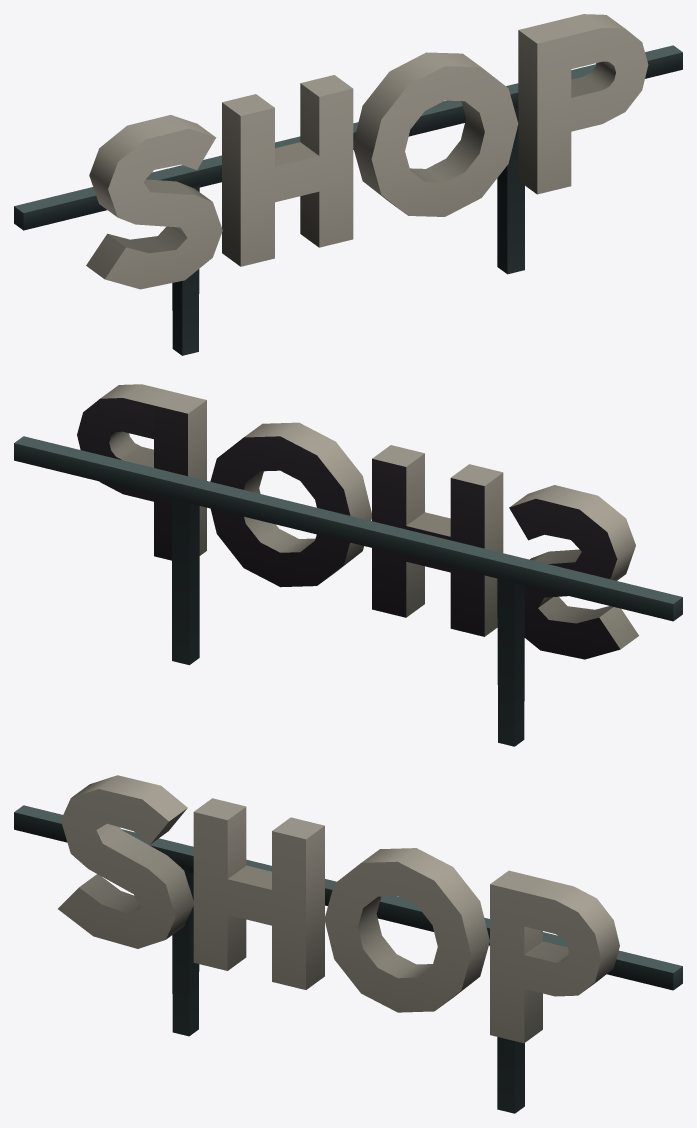
The model's file is Title_3A.fbx.
3 renders of one model, top to bottom at view 1: azimuth 30°, elevation 25°; view 2: azimuth 150°, elevation 25°; view 3: azimuth 330°, elevation 25°, orthographic.
Parts seen in each view (by area): view 1: Title_3A, Title_Addon_3A; view 2: Title_3A, Title_Addon_3A; view 3: Title_3A, Title_Addon_3A.
Part boxes in pixels (x1,y1,x2,y2): Title_3A: (86,14,648,289); Title_Addon_3A: (14,45,682,355); Title_3A: (77,384,638,659); Title_Addon_3A: (14,436,682,746); Title_3A: (58,775,619,1043); Title_Addon_3A: (14,805,682,1113).
Bounding box in the file's own units: 405 × 143 × 30.53.
